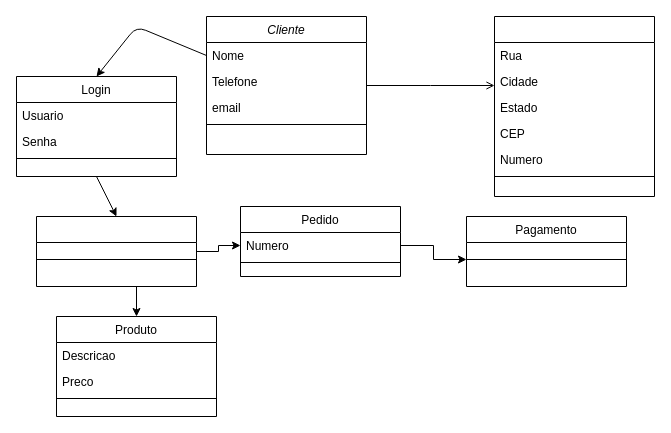
Some shapes in this 671 by 433 pixel diagram are drawn without their labels. Here are the shapes that lost their labels. From the top down, the box of each, then its label:
(494, 16, 654, 196): Endereço
(36, 216, 196, 286): CarrinhoCompra
